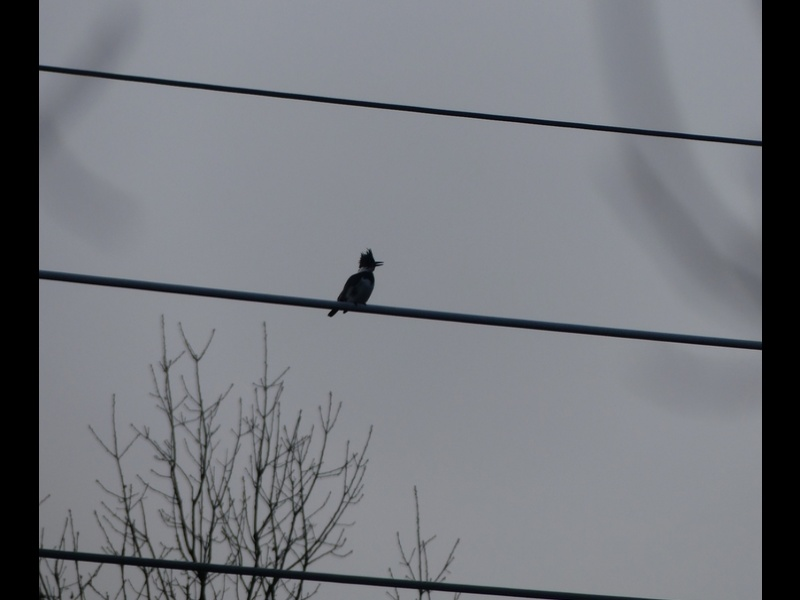kingfisher: (328, 247, 384, 318)
